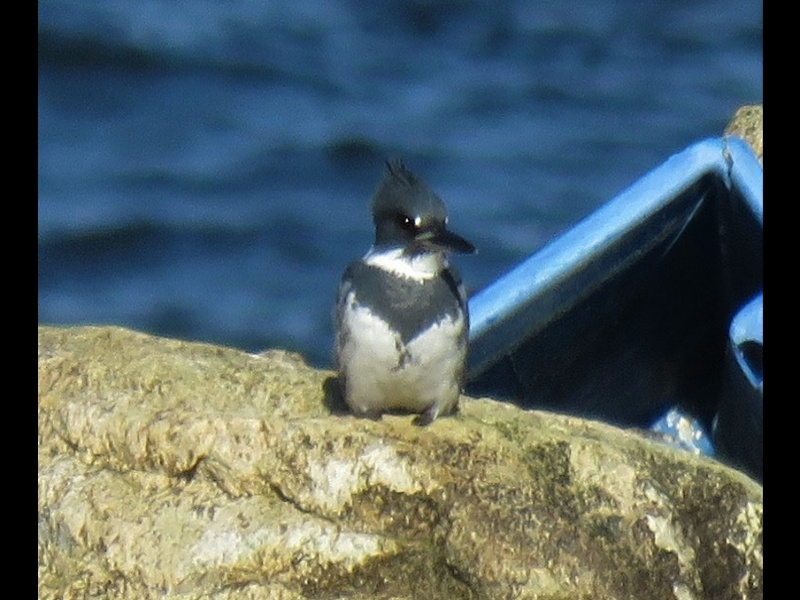kingfisher: (328, 158, 479, 422)
